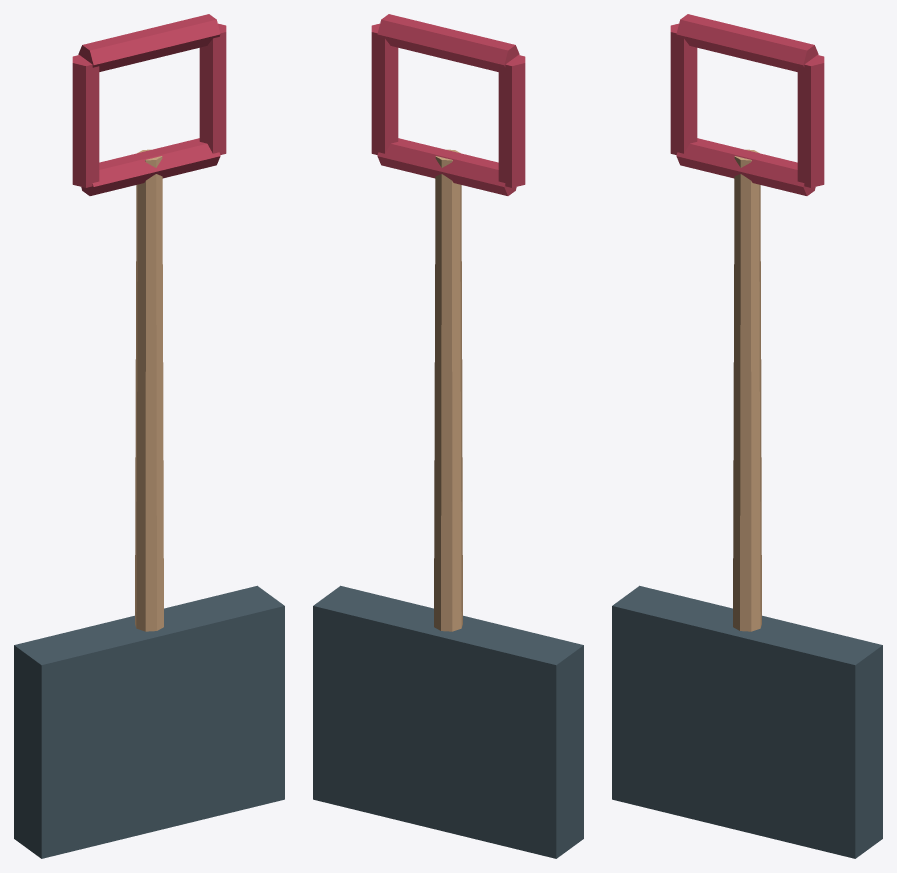
The model's file is shovel_b.glb.
3 renders of one model, left to right at view 1: azimuth 30°, elevation 25°; view 2: azimuth 150°, elevation 25°; view 3: azimuth 330°, elevation 25°, orthographic.
Visible parts, largest first — view 1: snow-shovel-iron, snow-shovel-red, snow-shovel-cedar; view 2: snow-shovel-iron, snow-shovel-red, snow-shovel-cedar; view 3: snow-shovel-iron, snow-shovel-red, snow-shovel-cedar.
Boxes of the visible parts, left/top/right/bottom form: snow-shovel-iron: left=14, top=585, right=284, bottom=858; snow-shovel-red: left=72, top=14, right=226, bottom=195; snow-shovel-cedar: left=135, top=149, right=163, bottom=631; snow-shovel-iron: left=313, top=585, right=583, bottom=858; snow-shovel-red: left=371, top=14, right=525, bottom=195; snow-shovel-cedar: left=434, top=149, right=462, bottom=631; snow-shovel-iron: left=612, top=585, right=882, bottom=858; snow-shovel-red: left=670, top=14, right=824, bottom=195; snow-shovel-cedar: left=733, top=149, right=761, bottom=631.
Size of the model in its own units: 0.46 by 1.42 by 0.09.
